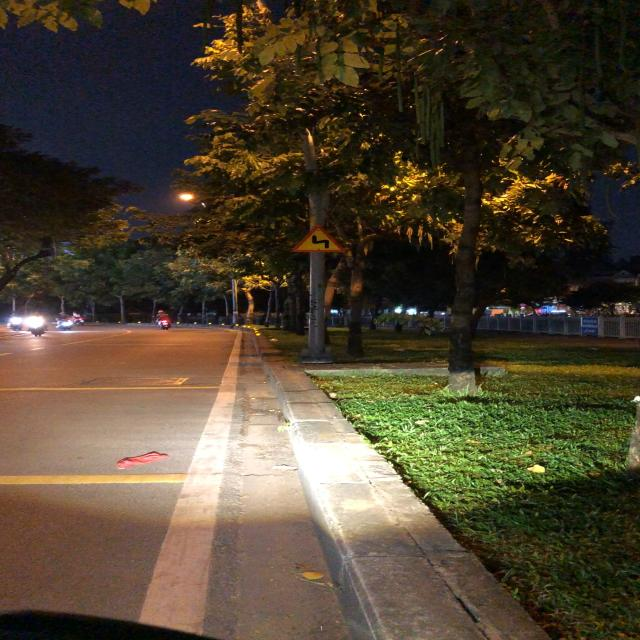Bien bao nhieu cho ngoat nguy hiem lien tiep: (288, 224, 348, 253)
